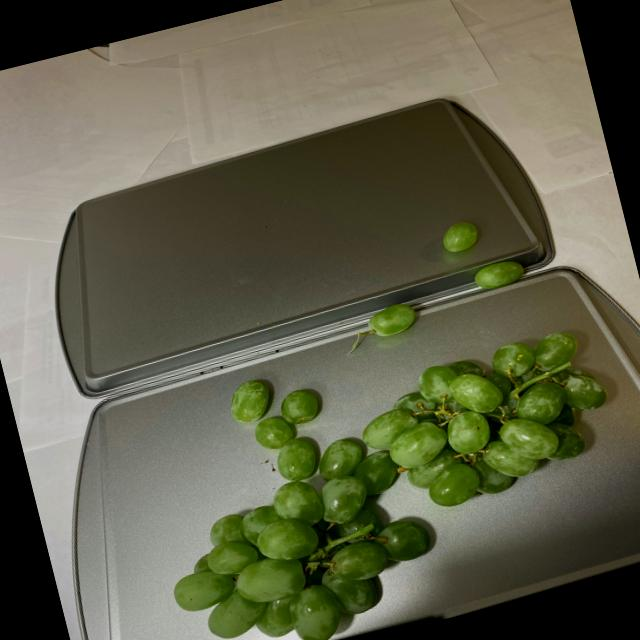grapes: (118, 299, 640, 640), (336, 207, 538, 357)
